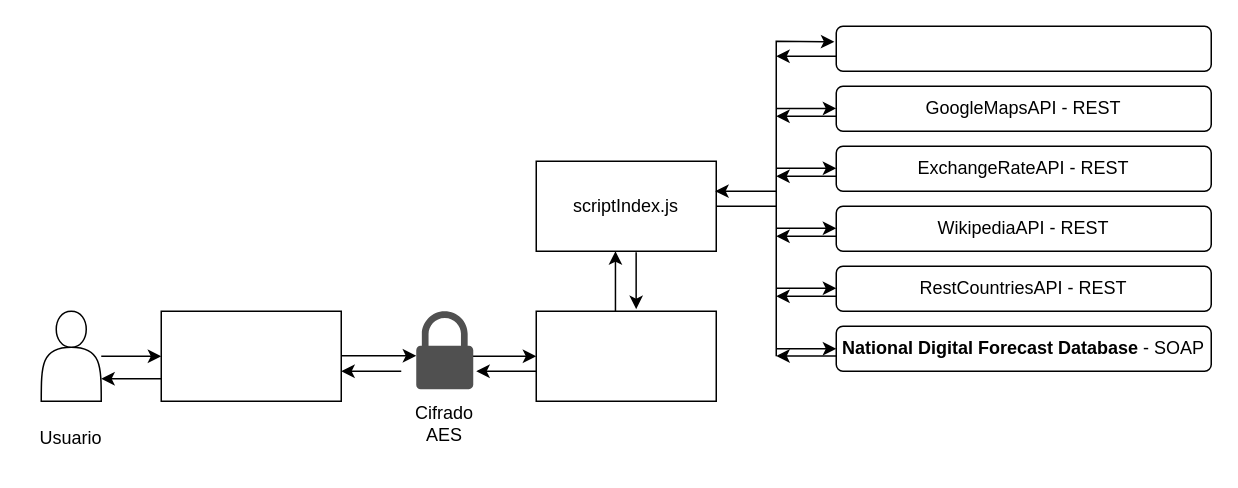
The diagram is 1238 pixels wide and 488 high, and some of its shapes have lost their labels. Each missing label, with the centre of its shape:
Index.html: pixel 250 355
OpenWeatherAPI - REST: pixel 1023 48
Proyecto.hml: pixel 625 355
